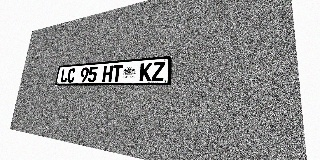plate: (55, 56, 172, 86)
